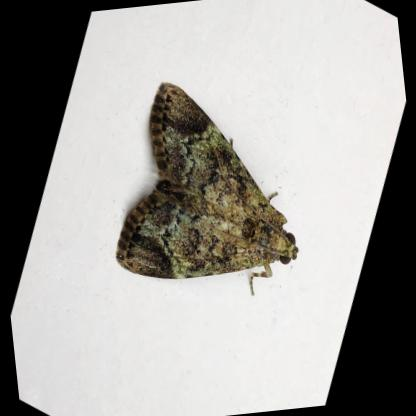Leaf Webber: (106, 83, 301, 293)
